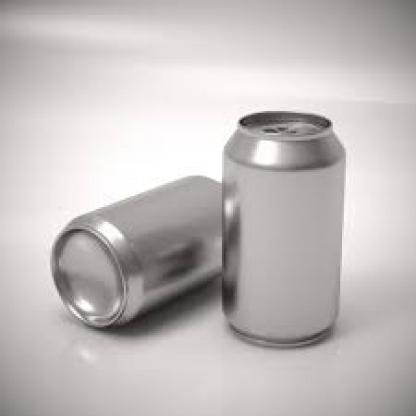METAL: (222, 107, 344, 346), (50, 176, 218, 326)
